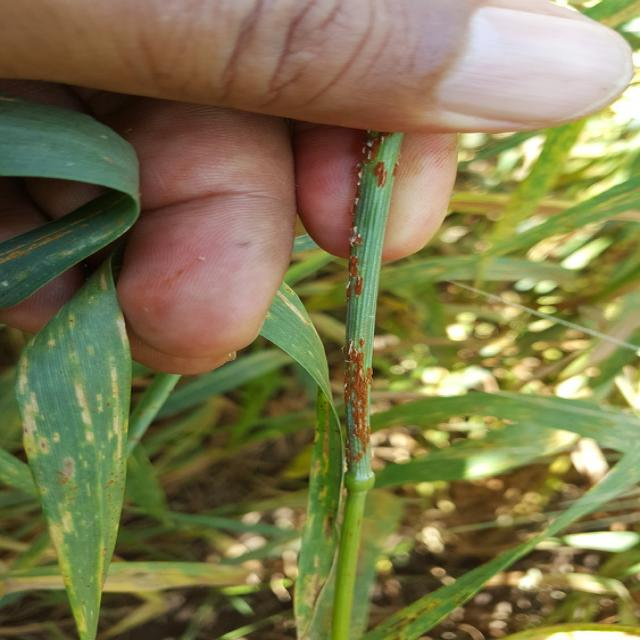wheat-stemrust: (352, 369, 372, 455), (345, 339, 371, 405), (346, 256, 366, 297), (374, 161, 387, 187)
